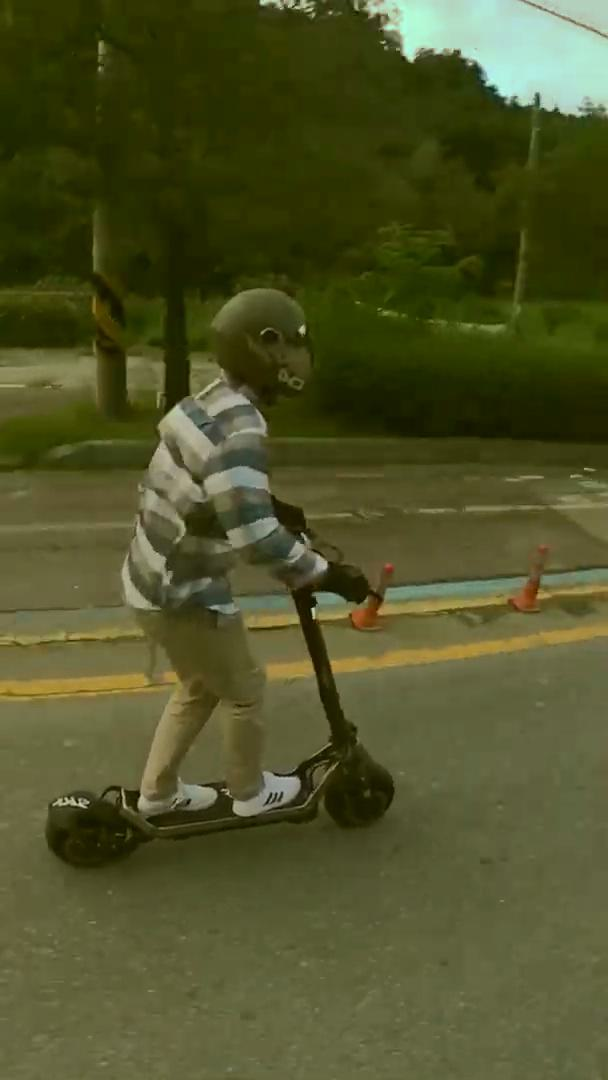helmet: (38, 282, 396, 868)
